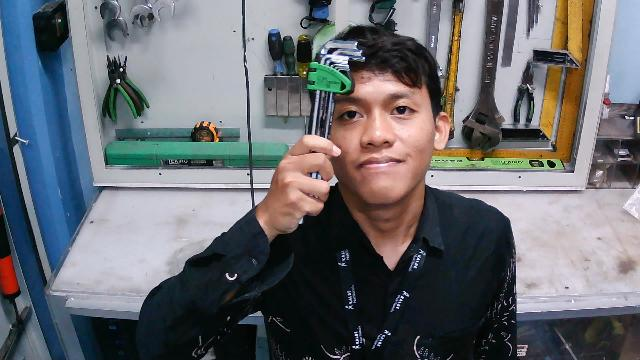kunci_l: (297, 35, 370, 224)
